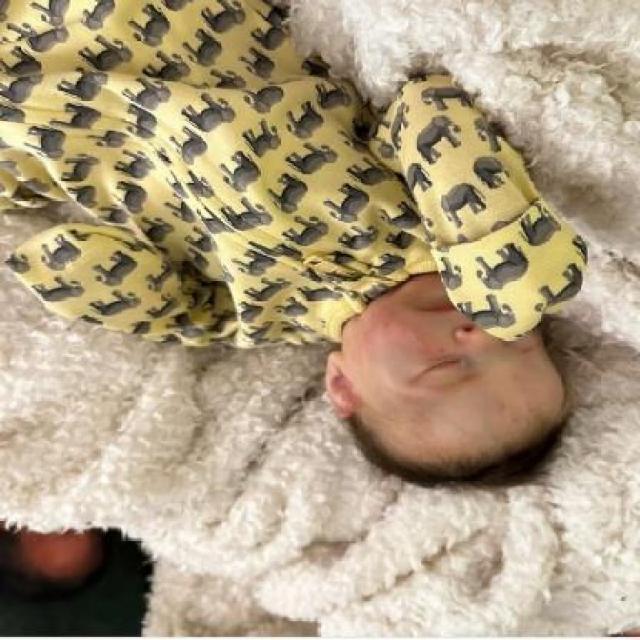baby: (0, 0, 586, 491)
